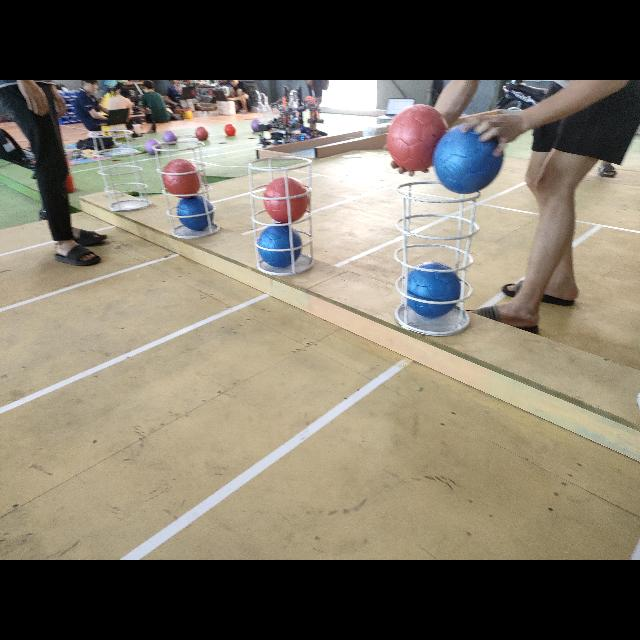B: (404, 262, 460, 318), (258, 225, 302, 268), (176, 196, 214, 232)
R: (264, 176, 308, 222), (163, 158, 201, 198)
